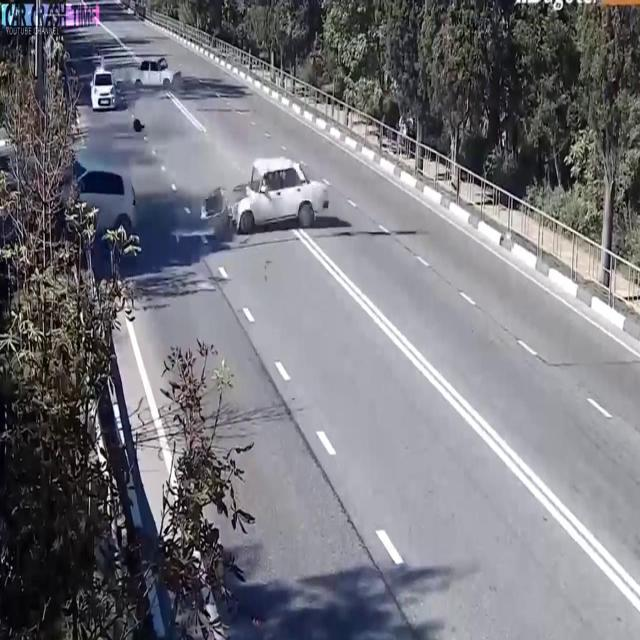accident: (27, 136, 147, 278), (197, 142, 333, 253)
